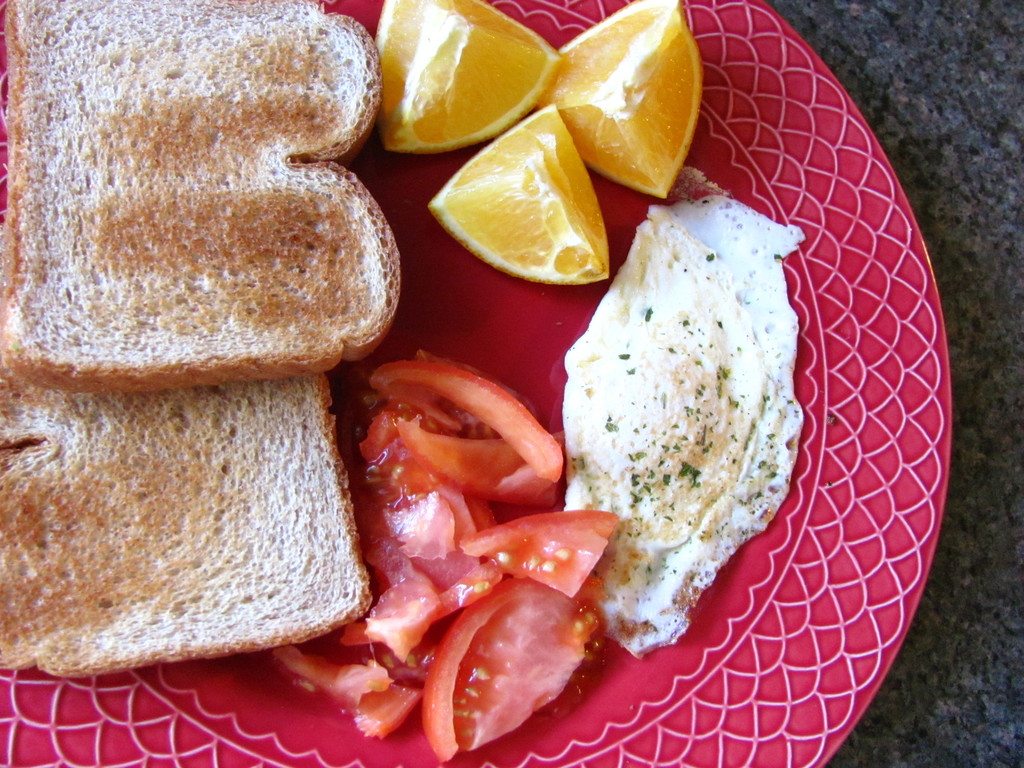Ripe: (538, 0, 701, 200), (431, 105, 614, 275), (355, 21, 547, 141)
